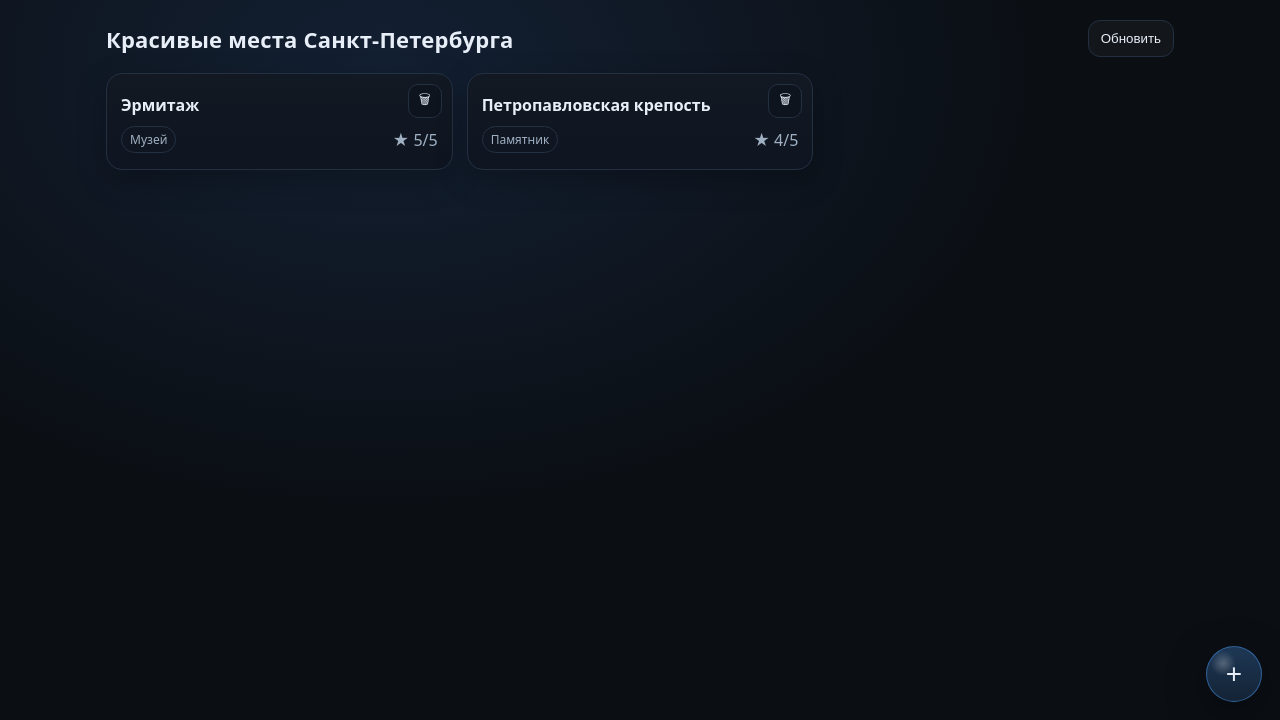
Scenario: PlacesPage — навигация модала › клик по кнопке "+" открывает модал в режиме add
expect the text "Эрмитаж" is shown: met, box x1=121 y1=94 x2=199 y2=116
Click the button named "Добавить место".
click(1234, 674)  # box x1=1206 y1=646 x2=1262 y2=702
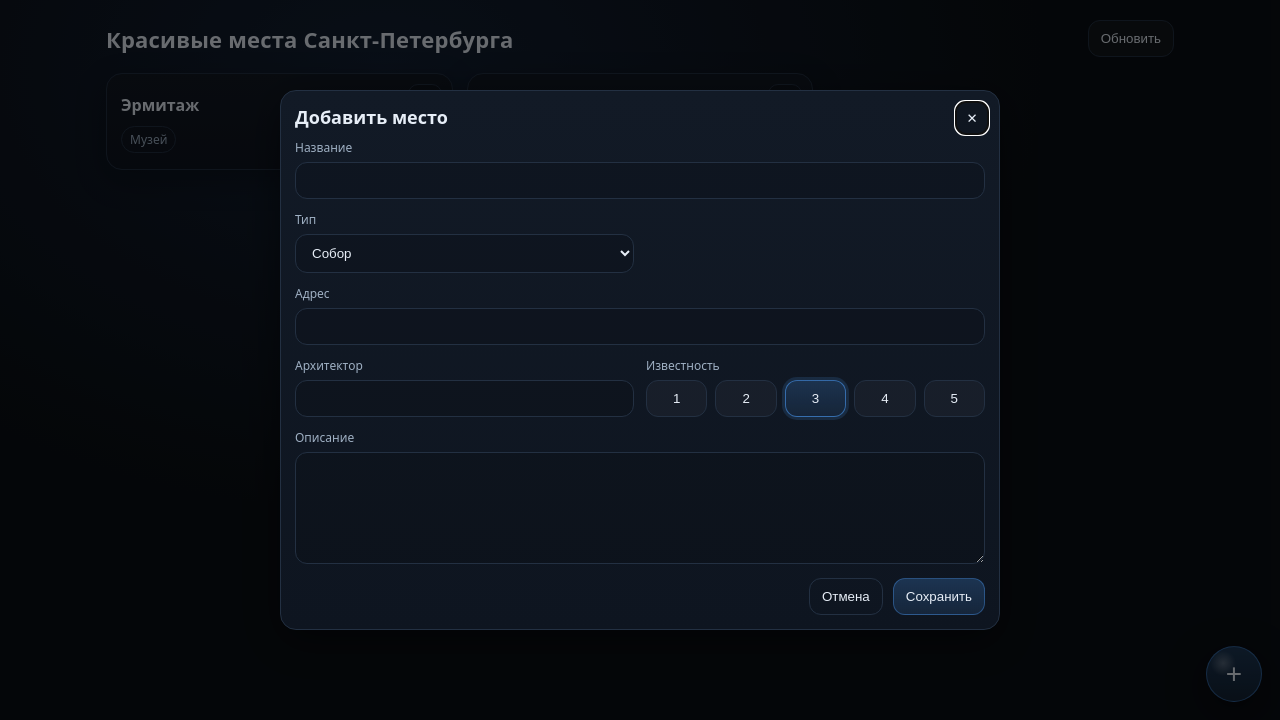
expect the heading "Добавить место" is shown: met, box x1=295 y1=105 x2=448 y2=129
